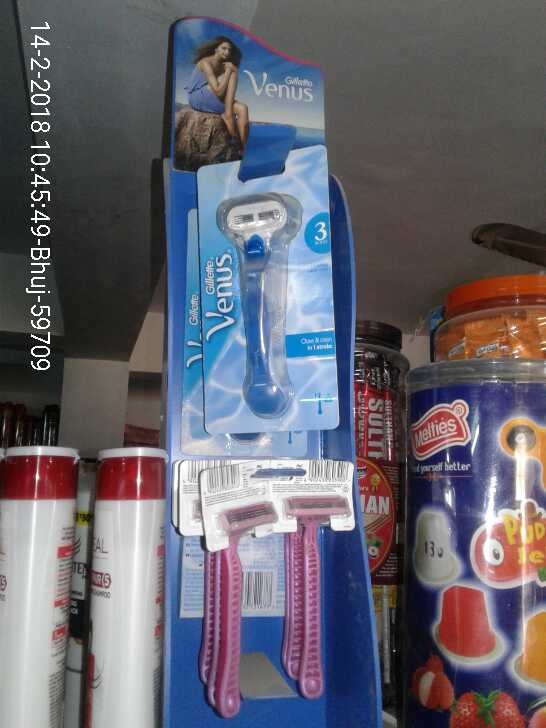venus: (182, 150, 344, 436)
